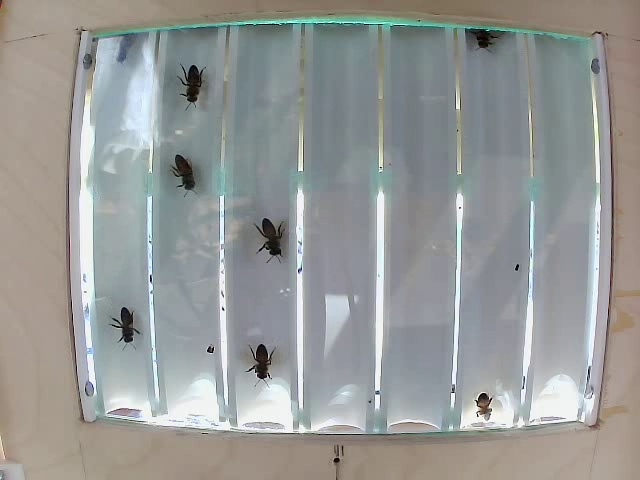bee: (238, 324, 273, 376), (178, 64, 215, 111), (100, 298, 135, 347), (255, 207, 287, 253), (172, 148, 199, 191), (473, 397, 502, 429)
